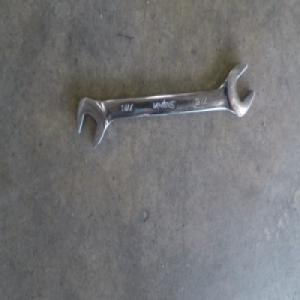Wrench: (77, 61, 255, 150)
